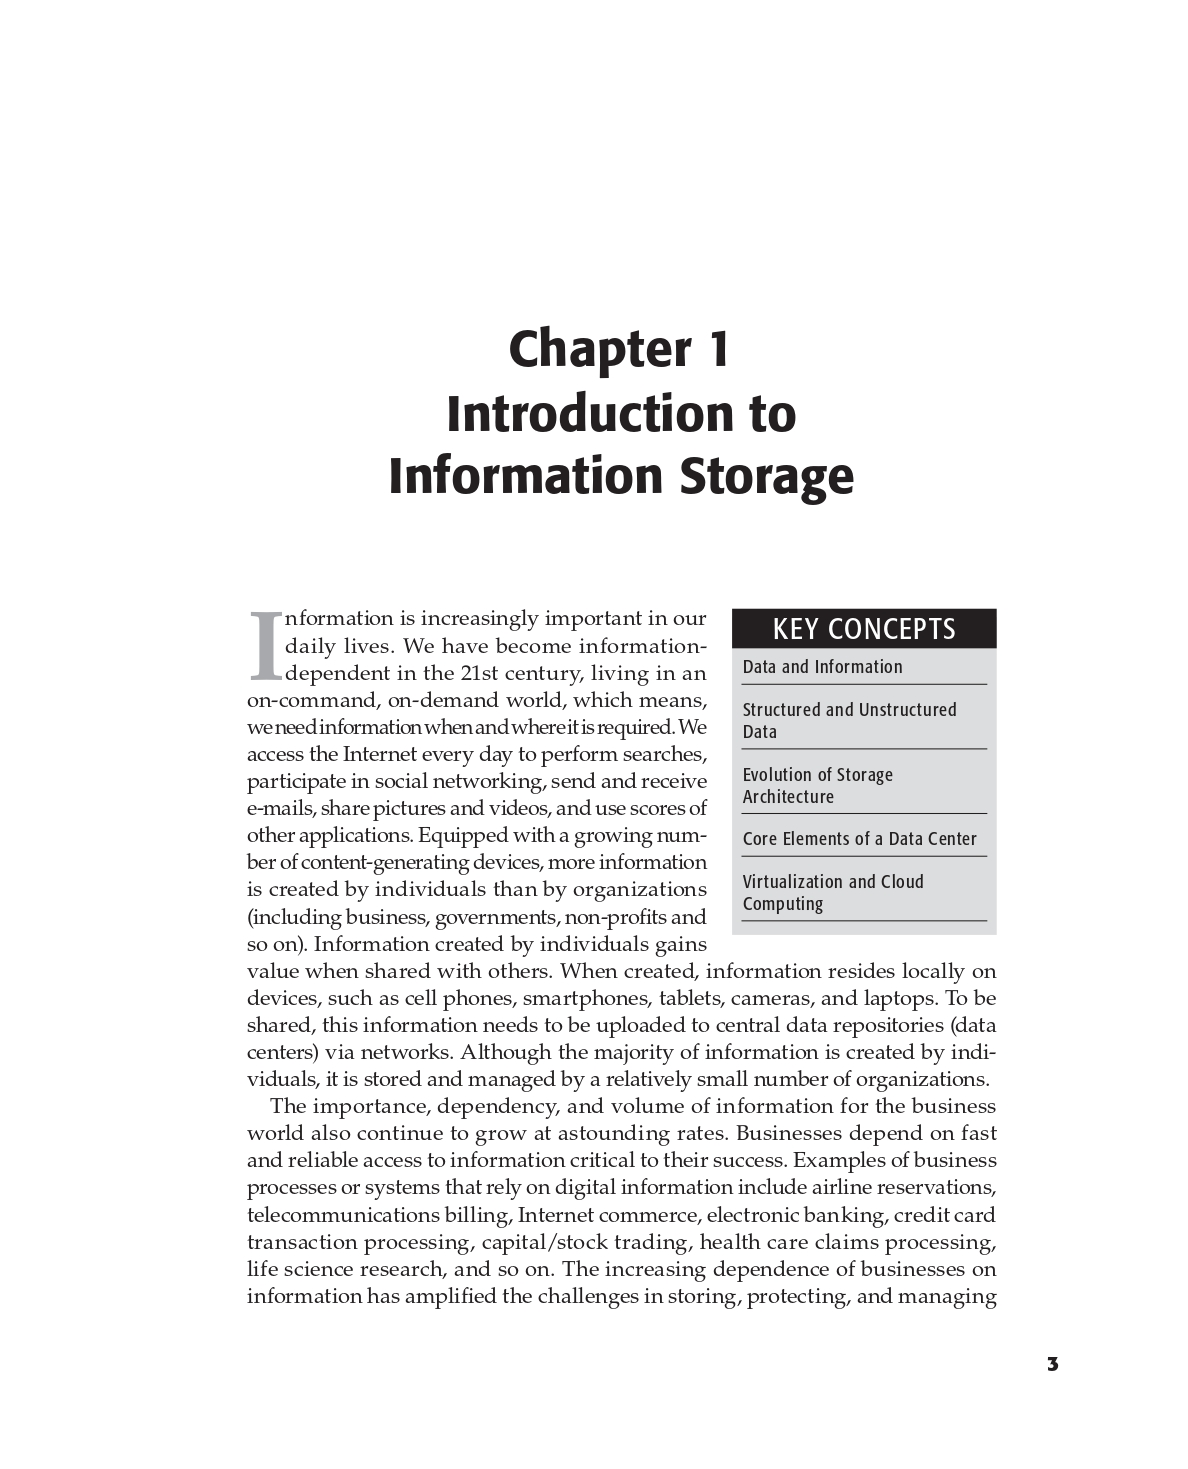Paragraph: (245, 1092, 1007, 1317), (240, 601, 713, 955), (236, 961, 996, 1090), (379, 385, 868, 505), (491, 304, 739, 379), (730, 858, 932, 920), (739, 690, 964, 742), (733, 754, 899, 812), (730, 814, 987, 850), (739, 657, 912, 690), (763, 616, 970, 642), (1036, 1353, 1072, 1382)
